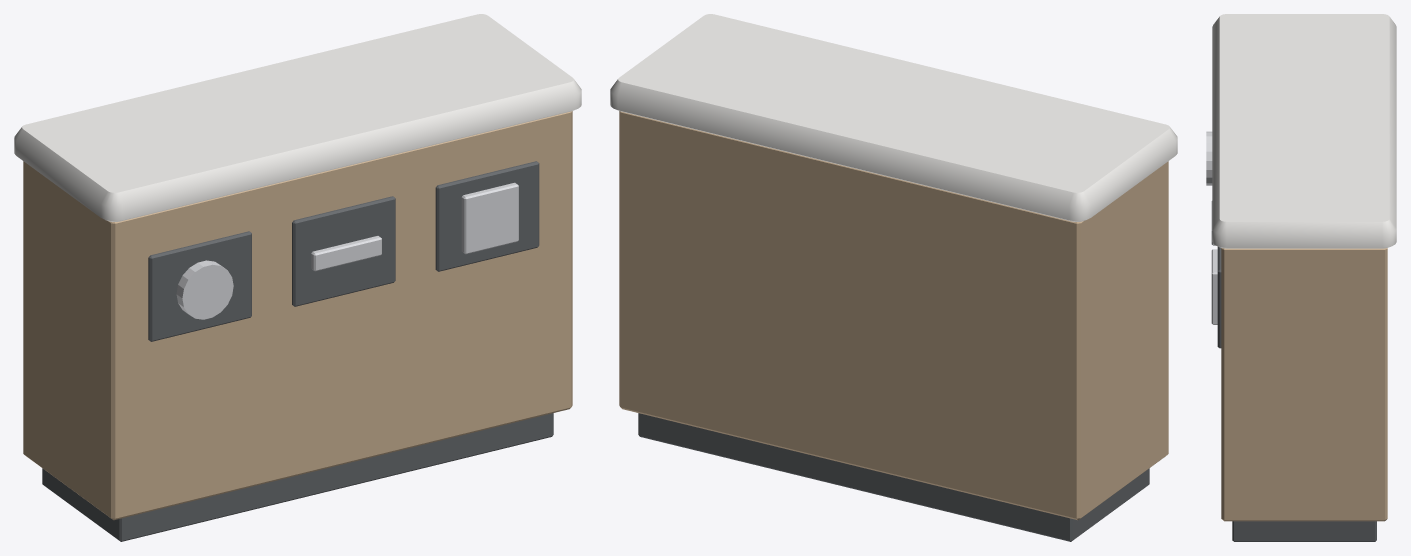
Rendered from SM_Retail_25376_WasteStation.fbx.
3 renders of one model, left to right at view 1: azimuth 30°, elevation 25°; view 2: azimuth 150°, elevation 25°; view 3: azimuth 270°, elevation 25°, orthographic. The views are drawn at different scales.
Visible parts, largest first — view 1: concourse-waste-station_1, concourse-waste-station_2, concourse-waste-station_0, concourse-waste-station_3; view 2: concourse-waste-station_1, concourse-waste-station_2, concourse-waste-station_0; view 3: concourse-waste-station_1, concourse-waste-station_2, concourse-waste-station_0, concourse-waste-station_3.
Boxes of the visible parts, x1,y1,x2,y2 form: concourse-waste-station_1: [23, 111, 572, 520]; concourse-waste-station_2: [14, 14, 581, 221]; concourse-waste-station_0: [42, 161, 553, 541]; concourse-waste-station_3: [176, 182, 518, 319]; concourse-waste-station_1: [619, 111, 1168, 520]; concourse-waste-station_2: [610, 14, 1177, 221]; concourse-waste-station_0: [638, 413, 1149, 541]; concourse-waste-station_1: [1221, 248, 1387, 521]; concourse-waste-station_2: [1212, 14, 1396, 248]; concourse-waste-station_0: [1217, 246, 1376, 541]; concourse-waste-station_3: [1206, 131, 1217, 324].
Size of the model in its own units: 140 by 52.7 by 100.
